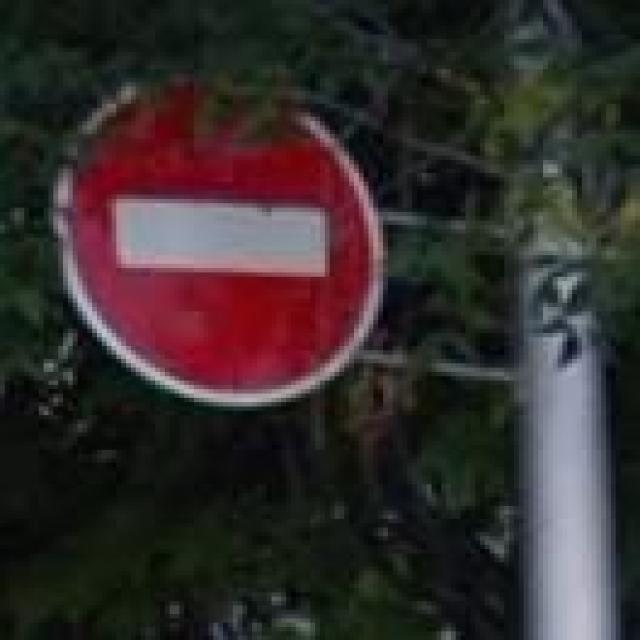traffic_sign: (53, 74, 383, 406)
